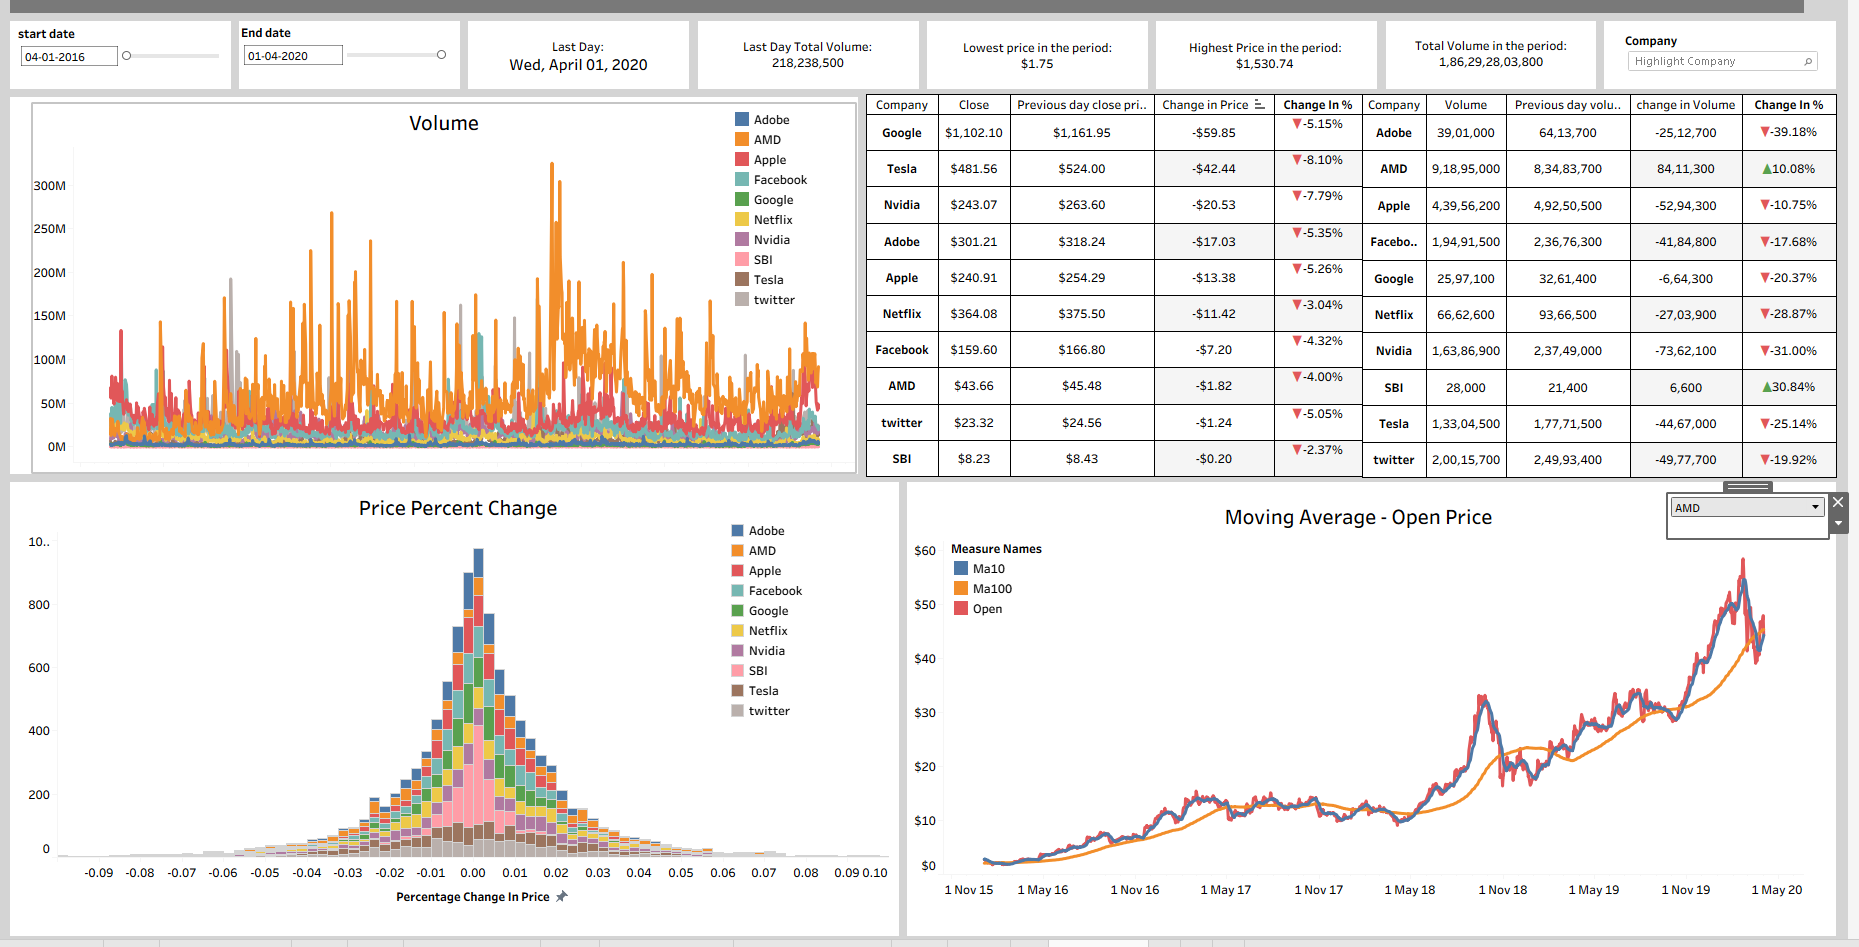

What the dashboard file says about the page in this screenshot:
{"tool":"tableau","page":{"name":"Dashboard 1","canvas":[1850,1050],"ordinal":0},"visuals":[{"type":"blank","box":[8,8,1802,111]},{"type":"blank","box":[1810,8,32,111]},{"type":"worksheet","title":"Title","mark":"Automatic","box":[12,31,1762,59]},{"type":"blank","box":[8,119,229.3,76]},{"type":"blank","box":[237.2,119,229.3,76]},{"type":"blank","box":[466.5,119,229.3,76]},{"type":"blank","box":[695.7,119,229.3,76]},{"type":"blank","box":[925,119,229.3,76]},{"type":"blank","box":[1154.3,119,229.3,76]},{"type":"blank","box":[1383.5,119,218.5,76]},{"type":"blank","box":[1602,119,240,76]},{"type":"worksheet","title":"Sheet 10","mark":"Automatic","box":[1394,124,199,65]},{"type":"parameter","param":"[Parameters].[Parameter 2]","box":[243,126,208,52]},{"type":"parameter","param":"[Parameters].[Parameter 1]","box":[20,127,204,56]},{"type":"worksheet","title":"Last Day","mark":"Automatic","box":[472,130,217,58]},{"type":"worksheet","title":"Last Day Total Volume","mark":"Automatic","box":[711,133,198,48]},{"type":"worksheet","title":"Sheet 9","mark":"Automatic","box":[1162,134,211,48]},{"type":"highlighter","title":"Volume","param":"[federated.1kmy7t31f41jrd10wqik203r7zqv].[none:Table Name:nk]","box":[1627,134,196,40]},{"type":"worksheet","title":"Lowest Price in the period","mark":"Automatic","box":[945,139,190,38]},{"type":"blank","box":[8,195,856,385]},{"type":"blank","box":[864,195,978,385]},{"type":"worksheet","title":"Sheet 4","mark":"Automatic","rows":["Table Name","Close","Previous day close price","Change in Price"],"box":[868,196,497,383]},{"type":"worksheet","title":"Detailed Volume Table","mark":"Automatic","rows":["Table Name","Volume","Previous day volume","change in Volume"],"box":[1364,196,475,385]},{"type":"worksheet","title":"Volume","mark":"Automatic","rows":["Volume"],"cols":["Date"],"box":[35,206,822,368]},{"type":"legend","title":"Volume","param":"[federated.1kmy7t31f41jrd10wqik203r7zqv].[none:Table Name:nk]","box":[734,211,140,278]},{"type":"blank","box":[8,580,897,462]},{"type":"blank","box":[905,580,937,462]},{"type":"worksheet","title":"Price Percent Change","mark":"Automatic","rows":["percentage change in price"],"cols":["Percentage Change In Price (bin)"],"box":[29,591,862,423]},{"type":"filter","title":"Sheet 3","param":"[federated.1kmy7t31f41jrd10wqik203r7zqv].[none:Table Name:nk]","box":[1670,596,160,44]},{"type":"worksheet","title":"Sheet 3","mark":"Automatic","cols":["Date"],"box":[915,600,891,406]},{"type":"legend","title":"Price Percent Change","param":"[federated.1kmy7t31f41jrd10wqik203r7zqv].[none:Table Name:nk]","box":[729,622,140,269]},{"type":"legend","title":"Sheet 3","param":"[federated.1kmy7t31f41jrd10wqik203r7zqv].[:Measure Names]","box":[953,642,140,78]}]}

Visuals, with their boxes on the page's 1850x1050 design canvas (x1, y1, x2, y2). These are canvas units, not pixel positions in the 1859x947 screenshot, which may show the page scaled, cropped or inside an application window:
blank: 8, 8, 1810, 119
blank: 1810, 8, 1842, 119
"Title" worksheet: 12, 31, 1774, 90
blank: 8, 119, 237, 195
blank: 237, 119, 466, 195
blank: 466, 119, 696, 195
blank: 696, 119, 925, 195
blank: 925, 119, 1154, 195
blank: 1154, 119, 1384, 195
blank: 1384, 119, 1602, 195
blank: 1602, 119, 1842, 195
"Sheet 10" worksheet: 1394, 124, 1593, 189
parameter: 243, 126, 451, 178
parameter: 20, 127, 224, 183
"Last Day" worksheet: 472, 130, 689, 188
"Last Day Total Volume" worksheet: 711, 133, 909, 181
"Sheet 9" worksheet: 1162, 134, 1373, 182
"Volume" highlighter: 1627, 134, 1823, 174
"Lowest Price in the period" worksheet: 945, 139, 1135, 177
blank: 8, 195, 864, 580
blank: 864, 195, 1842, 580
"Sheet 4" worksheet: 868, 196, 1365, 579
"Detailed Volume Table" worksheet: 1364, 196, 1839, 581
"Volume" worksheet: 35, 206, 857, 574
"Volume" legend: 734, 211, 874, 489
blank: 8, 580, 905, 1042
blank: 905, 580, 1842, 1042
"Price Percent Change" worksheet: 29, 591, 891, 1014
"Sheet 3" filter: 1670, 596, 1830, 640
"Sheet 3" worksheet: 915, 600, 1806, 1006
"Price Percent Change" legend: 729, 622, 869, 891
"Sheet 3" legend: 953, 642, 1093, 720
